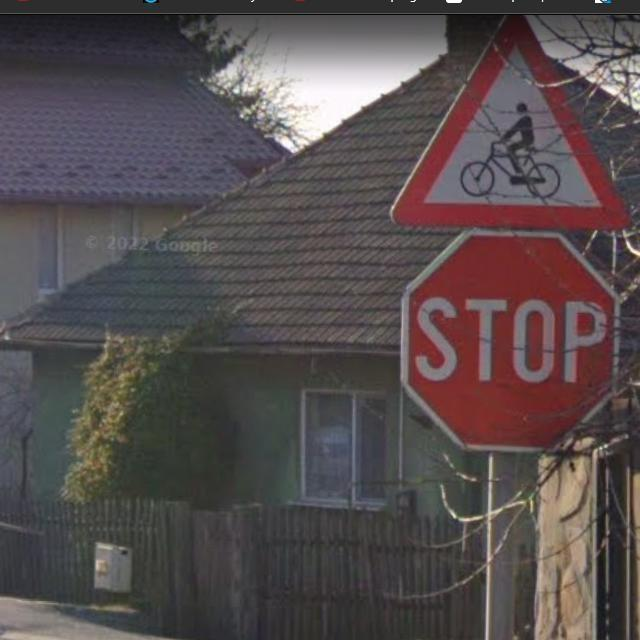prio_stop: (398, 232, 614, 454)
